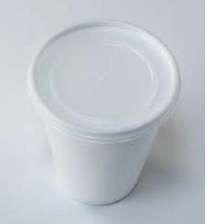paper_cup: (21, 12, 186, 210)
